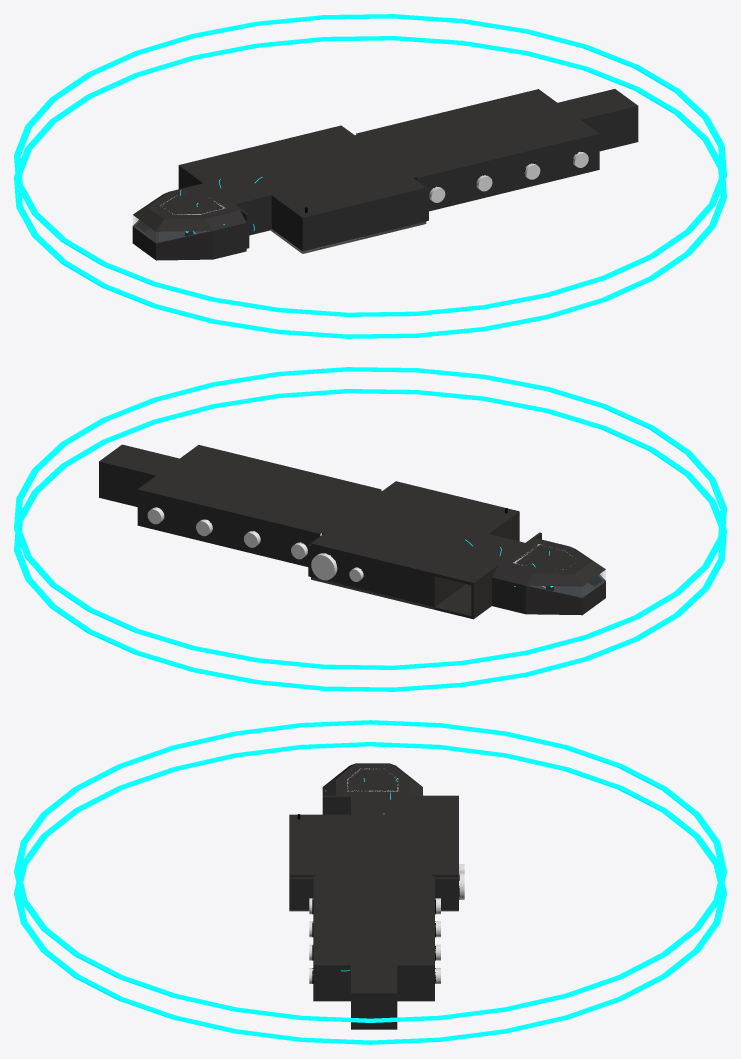
The model's file is Archive room.fbx.
The picture shows the model from 3 angles, top to bottom: view 1: azimuth 30°, elevation 25°; view 2: azimuth 150°, elevation 25°; view 3: azimuth 270°, elevation 25°; orthographic projection.
Parts seen in each view (by area): view 1: Cube.416, Cylinder.044, Cylinder.043, Cube.017, Cube.477, Cube.479, Cube.482, Cube.478, Cube.480, Cube.465, Cube.475, Cube.481 (+7 smaller); view 2: Cube.416, Cylinder.044, Cylinder.043, Cube.415, Cube.477, Cube.480, Cube.481, Cube.478, Cube.472, Cube.479, Cube.482, Cube.219 (+10 smaller); view 3: Cube.416, Cylinder.044, Cylinder.043, Cube.478, Cube.479, Cube.480, Cube.481, Cube.482, Cube.220, Cube.022, Cube.024, Cube.417 (+4 smaller).
Part boxes in pixels (x1,y1,x2,y2): Cube.416: [213, 90, 633, 202]; Cylinder.044: [14, 14, 726, 316]; Cylinder.043: [14, 36, 726, 338]; Cube.017: [415, 132, 599, 208]; Cube.477: [132, 183, 246, 257]; Cube.479: [334, 165, 426, 205]; Cube.482: [274, 180, 364, 219]; Cube.478: [149, 184, 238, 218]; Cube.480: [279, 125, 371, 162]; Cube.465: [367, 190, 426, 235]; Cube.475: [305, 205, 364, 250]; Cube.481: [220, 140, 309, 177]; Cube.416: [103, 446, 523, 558]; Cylinder.044: [14, 367, 726, 669]; Cylinder.043: [14, 389, 726, 691]; Cube.415: [137, 488, 321, 564]; Cube.477: [492, 538, 605, 612]; Cube.480: [311, 521, 403, 560]; Cube.481: [372, 536, 462, 575]; Cube.478: [499, 538, 588, 573]; Cube.472: [372, 561, 432, 606]; Cube.479: [365, 481, 457, 518]; Cube.482: [427, 496, 516, 533]; Cube.219: [99, 460, 157, 506]; Cube.416: [316, 797, 431, 991]; Cylinder.044: [14, 720, 726, 1022]; Cylinder.043: [14, 742, 726, 1044]; Cube.478: [337, 764, 407, 795]; Cube.479: [289, 845, 350, 877]; Cube.480: [397, 845, 458, 877]; Cube.481: [397, 816, 458, 844]; Cube.482: [289, 816, 350, 844]; Cube.220: [354, 992, 394, 1029]; Cube.022: [394, 797, 458, 814]; Cube.024: [316, 968, 350, 998]; Cube.417: [397, 968, 431, 998].
Bounding box in the file's own units: 8926 × 670 × 8926.
